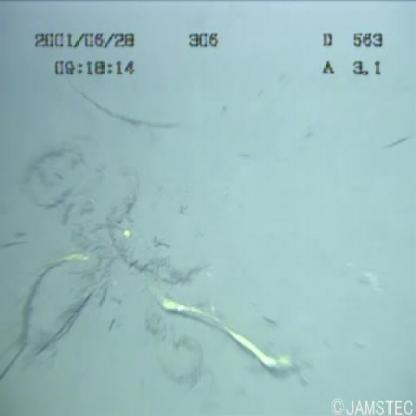Rác: (1, 135, 305, 402)
